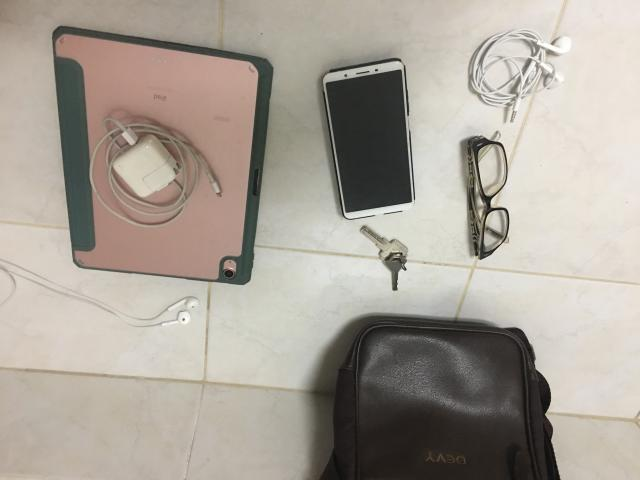Glasses: (468, 131, 509, 259)
Keys: (360, 225, 408, 290)
Mobile phone: (324, 59, 414, 219)
wire: (89, 118, 221, 228), (0, 259, 199, 328), (470, 29, 571, 122)
